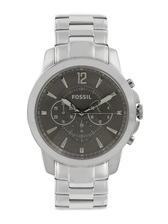watch: (25, 14, 144, 210)
